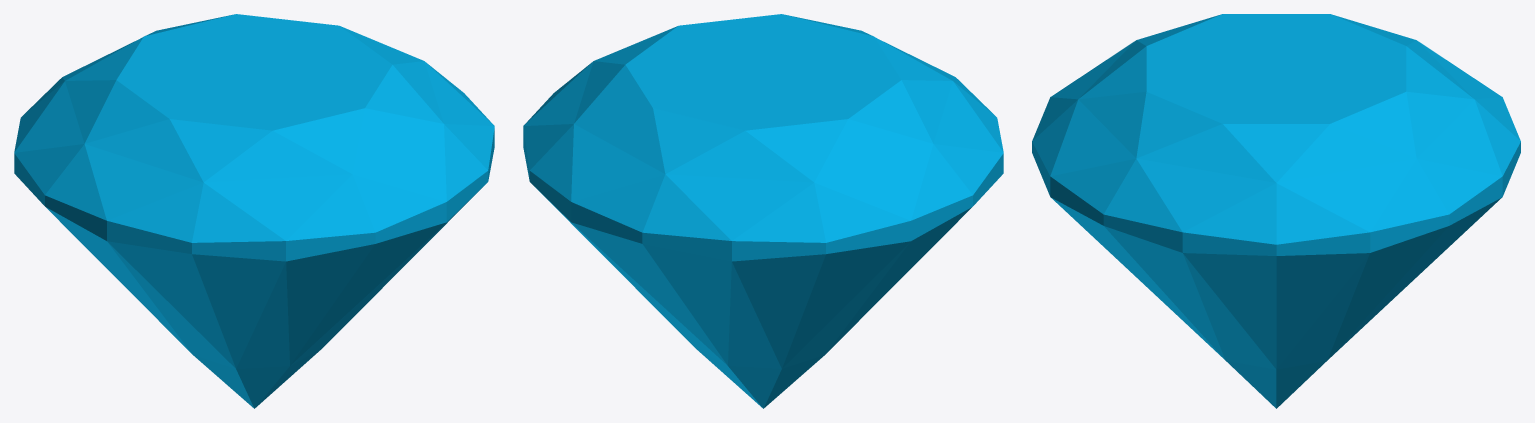
The model's file is diamondBlue.fbx.
3 views of the same model, side by side, from view 1: azimuth 30°, elevation 25°; view 2: azimuth 150°, elevation 25°; view 3: azimuth 270°, elevation 25° (orthographic).
Visible parts, largest first — view 1: ダイヤモンド; view 2: ダイヤモンド; view 3: ダイヤモンド.
Part boxes in pixels (x1,y1,x2,y2): ダイヤモンド: (14,14,494,408); ダイヤモンド: (523,14,1003,408); ダイヤモンド: (1032,14,1520,408).
Bounding box in the file's own units: 200 × 200 × 153.
